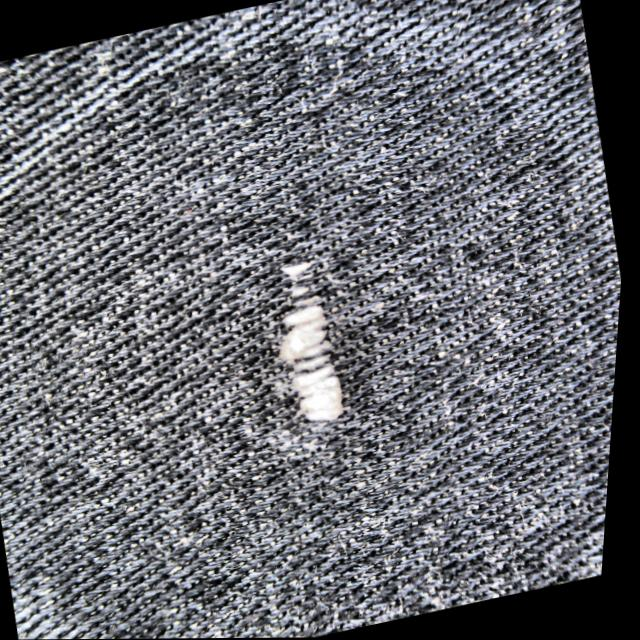Hole: (284, 256, 351, 418)
